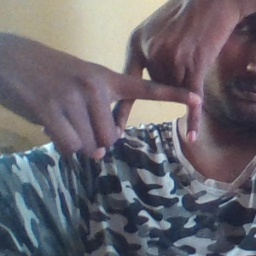H: (99, 40, 211, 155)
